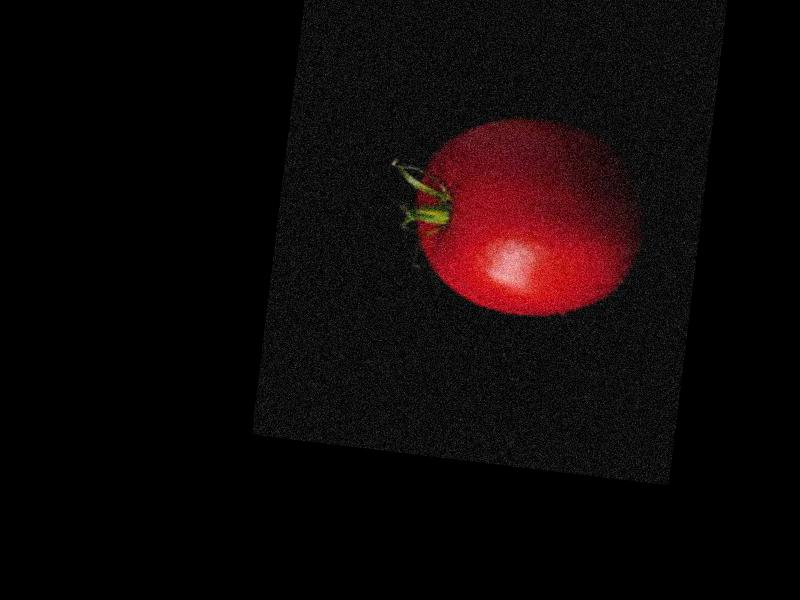Tomato: (404, 106, 646, 326)
